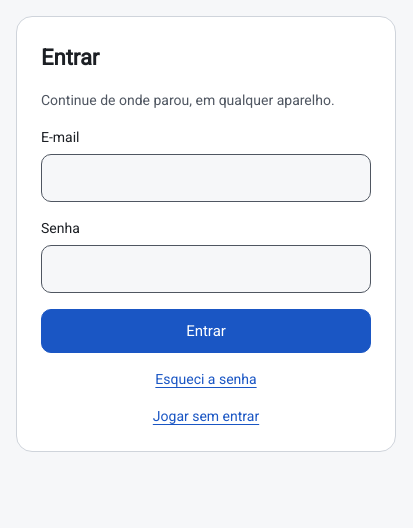
Test case: LoginPage › mostra "E-mail ou senha incorretos." sem revelar o e-mail
Type "ana@exemplo.com" into the field labelled "E-mail" at point(206, 178), box [41,154,371,202]
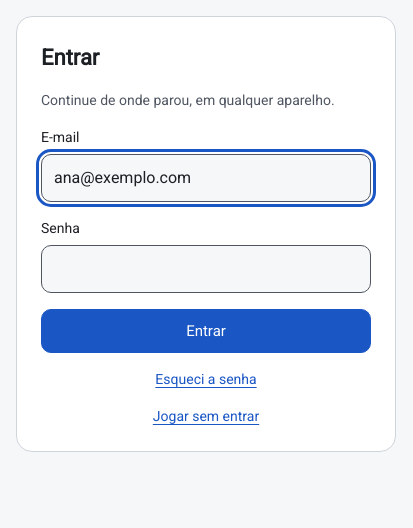
Type "segredo123" into the password field labelled "Senha" at point(206, 269), box [41,245,371,293]
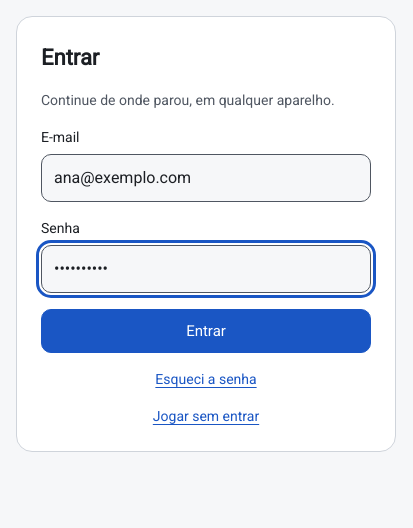
Click the button "Entrar" at point(206, 331), box [41,309,371,353]
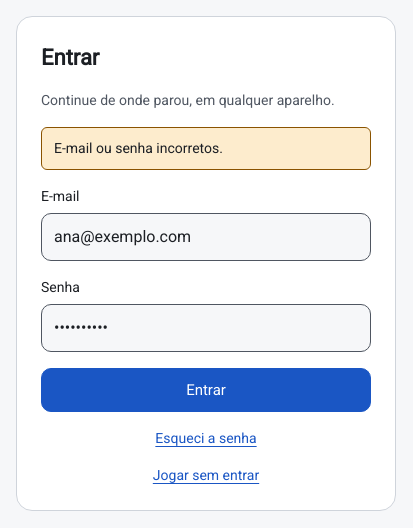
Expected: the message does not show "ana@exemplo.com", [41,127,371,170]
Expected: the message reads "E-mail ou senha incorretos.", [54,140,223,156]
